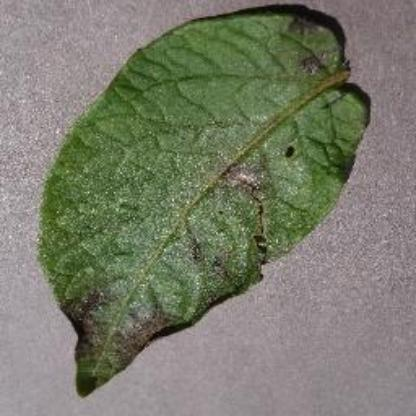Late-Blight: (35, 6, 377, 396)
